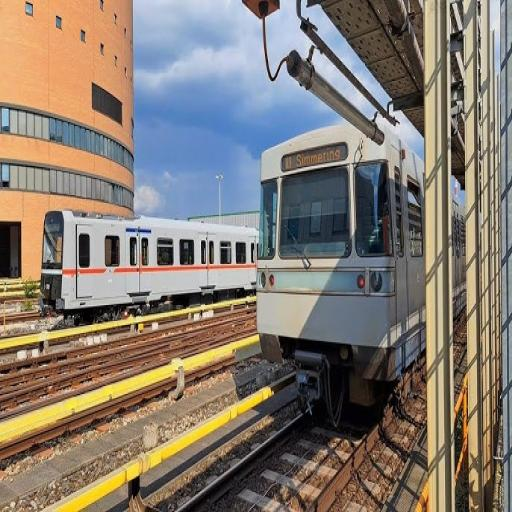Silberpfeil: (257, 118, 456, 415)
X-Wagen: (41, 206, 255, 322)
